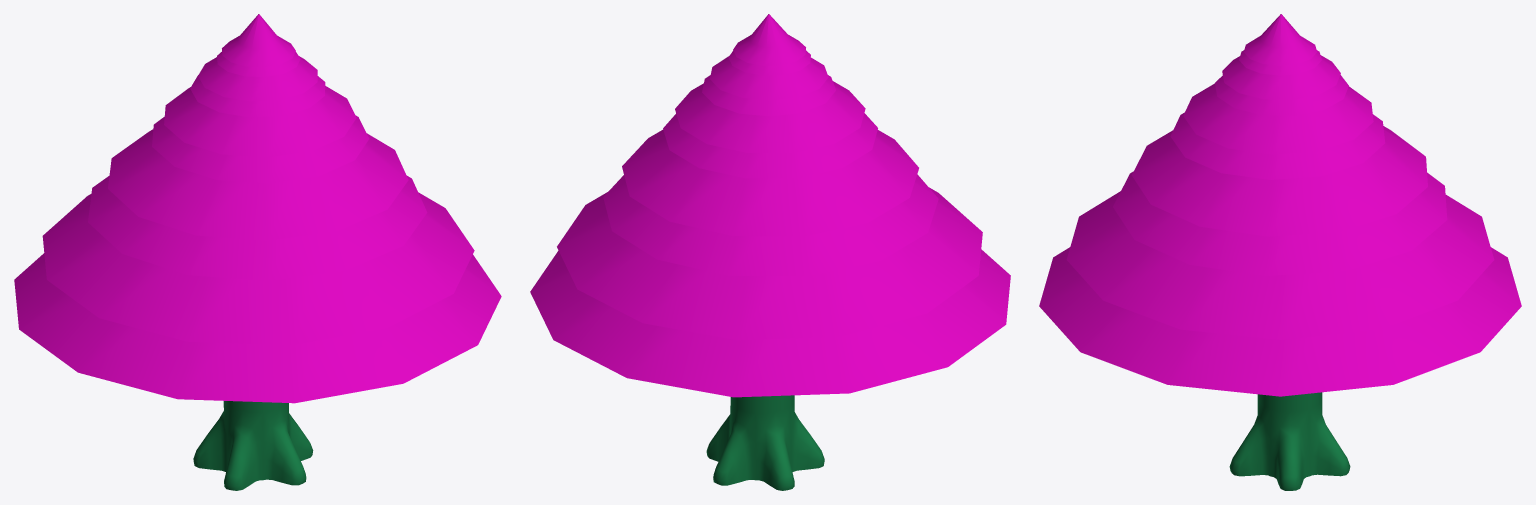
Rendered from Tree_ACNH.fbx.
3 renders of one model, left to right at view 1: azimuth 30°, elevation 25°; view 2: azimuth 150°, elevation 25°; view 3: azimuth 270°, elevation 25°, orthographic.
Parts seen in each view (by area): view 1: tree001; view 2: tree001; view 3: tree001.
Boxes of the visible parts, bbox=[...] form: tree001: bbox=[14, 14, 501, 490]; tree001: bbox=[530, 14, 1010, 490]; tree001: bbox=[1039, 14, 1521, 490].
Bounding box in the file's own units: 184 × 190 × 185.
